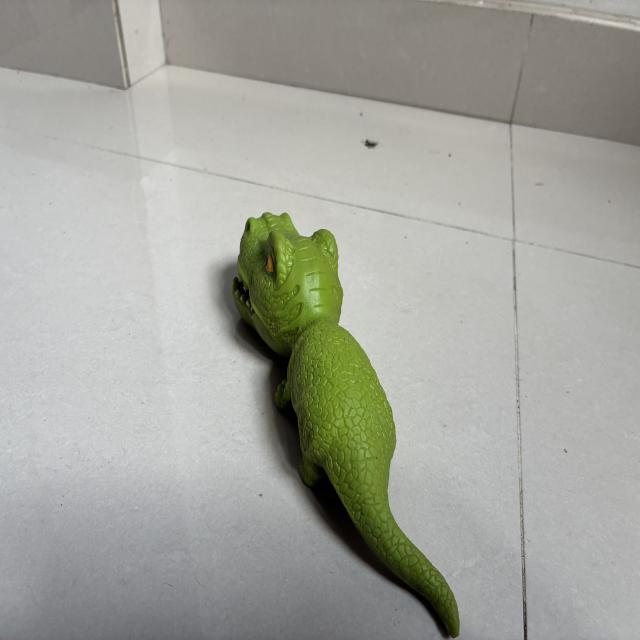dinosaur: (233, 213, 459, 637)
